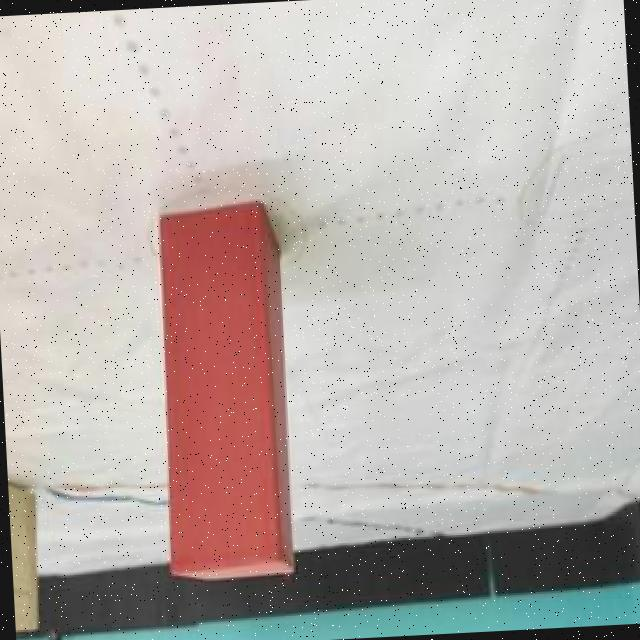redbox: (150, 202, 299, 582)
